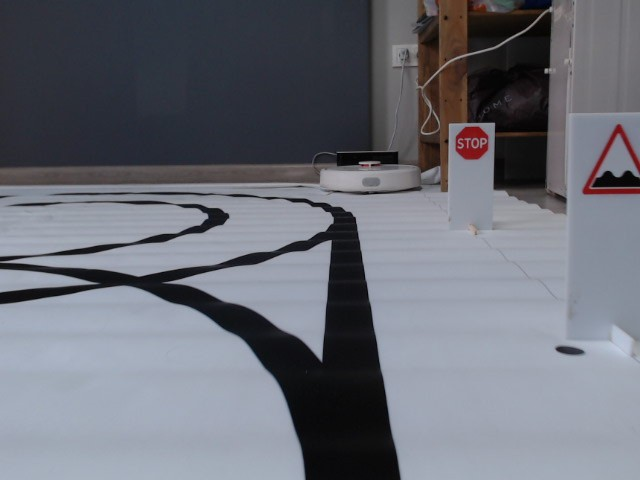Nerov: (576, 121, 640, 202)
Stop: (456, 126, 489, 160)
